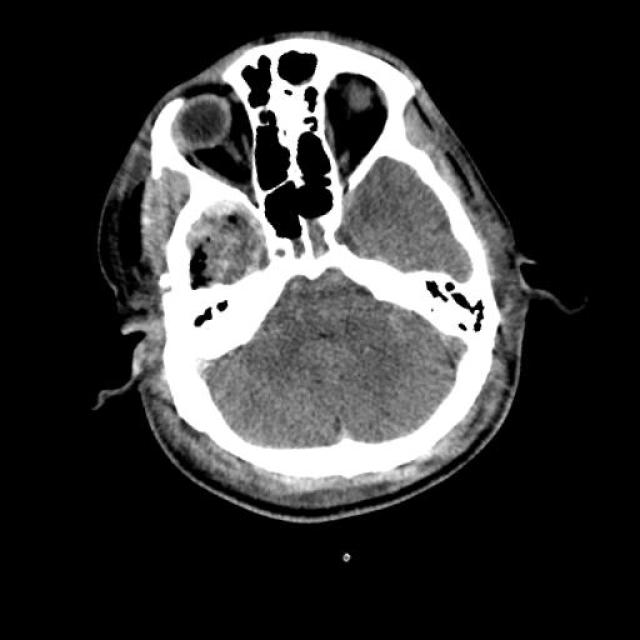Subdural: (168, 192, 268, 250)
